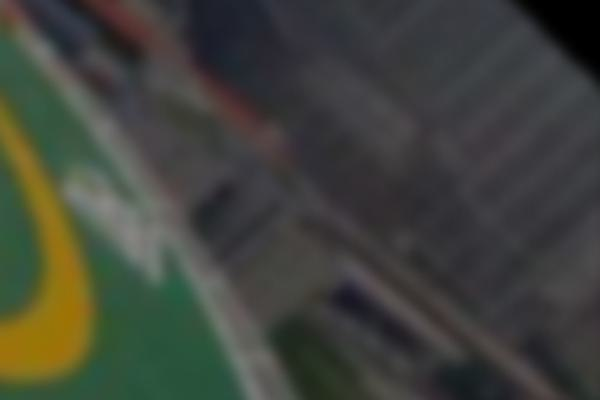Apron: (1, 98, 100, 387)
